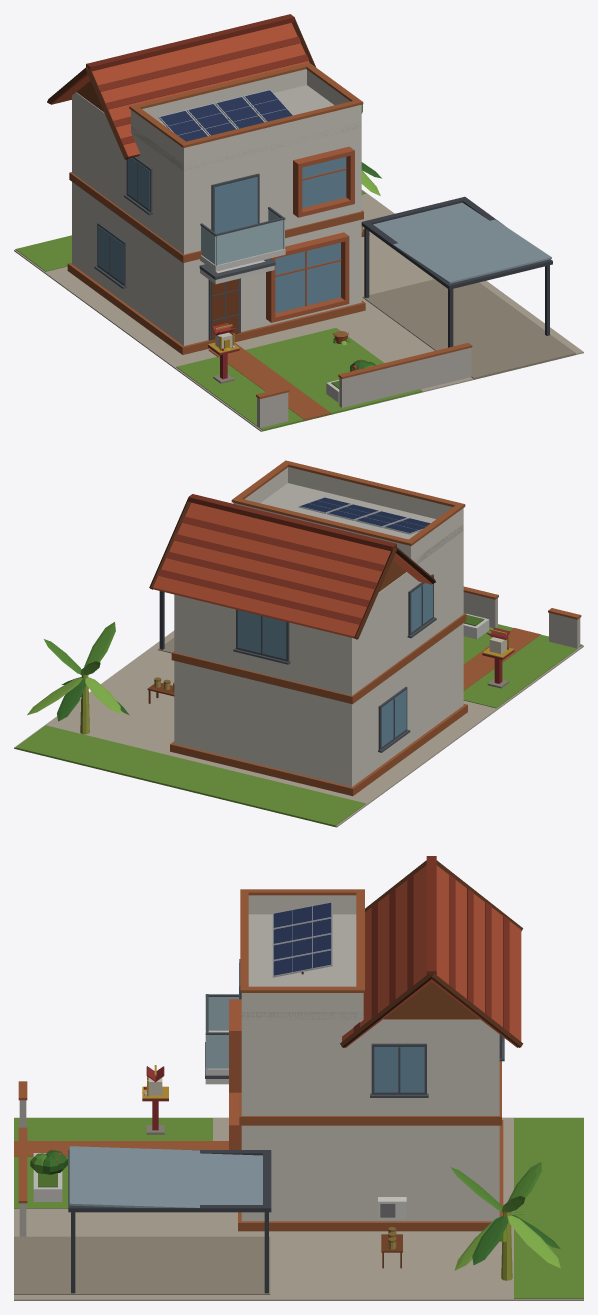
File: house12_1.glb
3 renders of one model, top to bottom at view 1: azimuth 30°, elevation 25°; view 2: azimuth 150°, elevation 25°; view 3: azimuth 270°, elevation 25°, orthographic. The views are drawn at different scales.
Visible parts, largest first — view 1: body; view 2: body; view 3: body.
Part boxes in pixels (x1,y1,x2,y2): body: [14, 14, 583, 431]; body: [14, 460, 583, 827]; body: [14, 856, 583, 1300].
Bounding box in the file's own units: 12 × 8.55 × 15.9.
